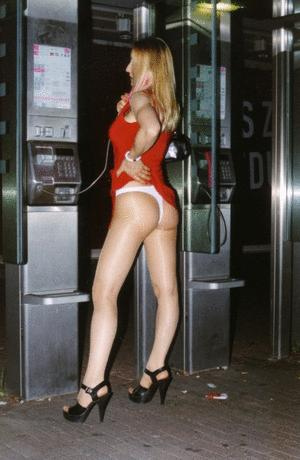person: (60, 36, 184, 423)
